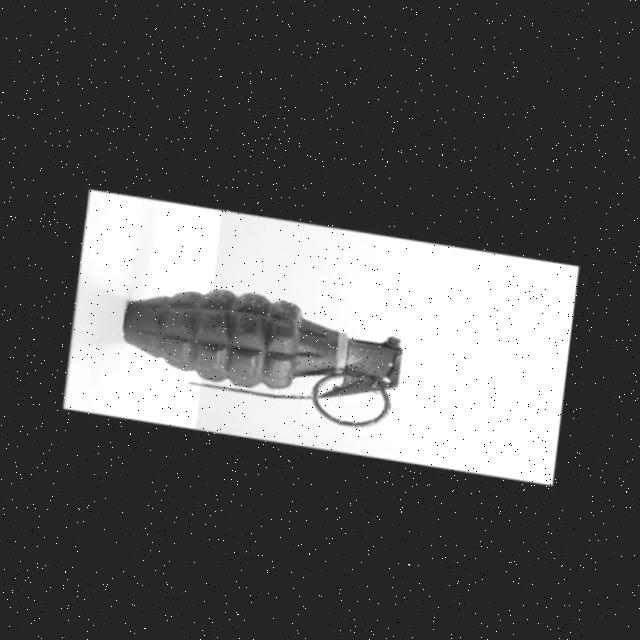grenade: (69, 221, 439, 464)
